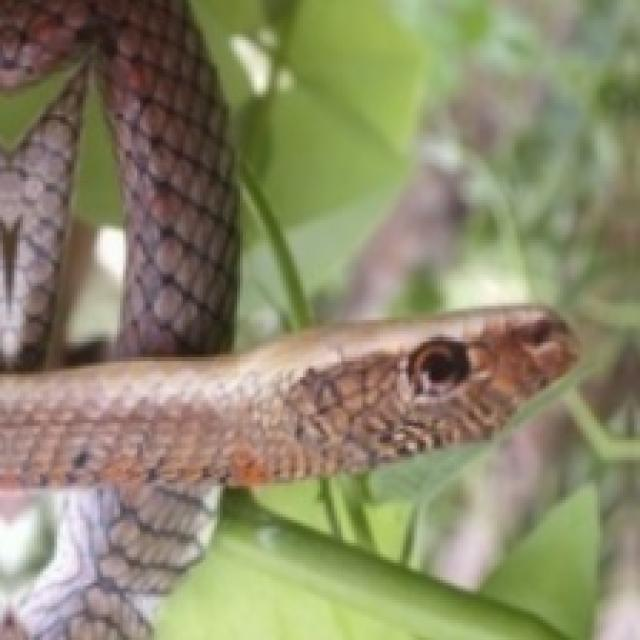paradise tree snake: (0, 0, 574, 637), (0, 0, 237, 369), (0, 483, 211, 637), (351, 554, 589, 637)
